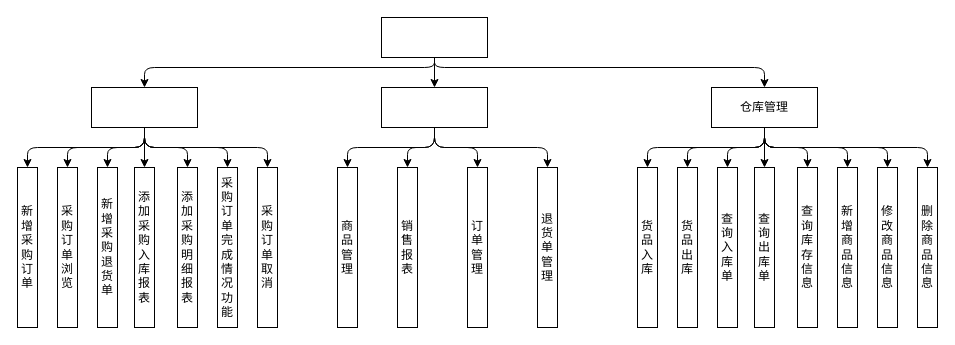
This 955x345 diagram has some shape labels left out. The shapes that lost their labels are listed below. From the top down, each one's centre as x and y in pixels, then its label:
At [434,37]: "进销存管理系统".
At [144,107]: "采购管理".
At [434,107]: "销售管理".
